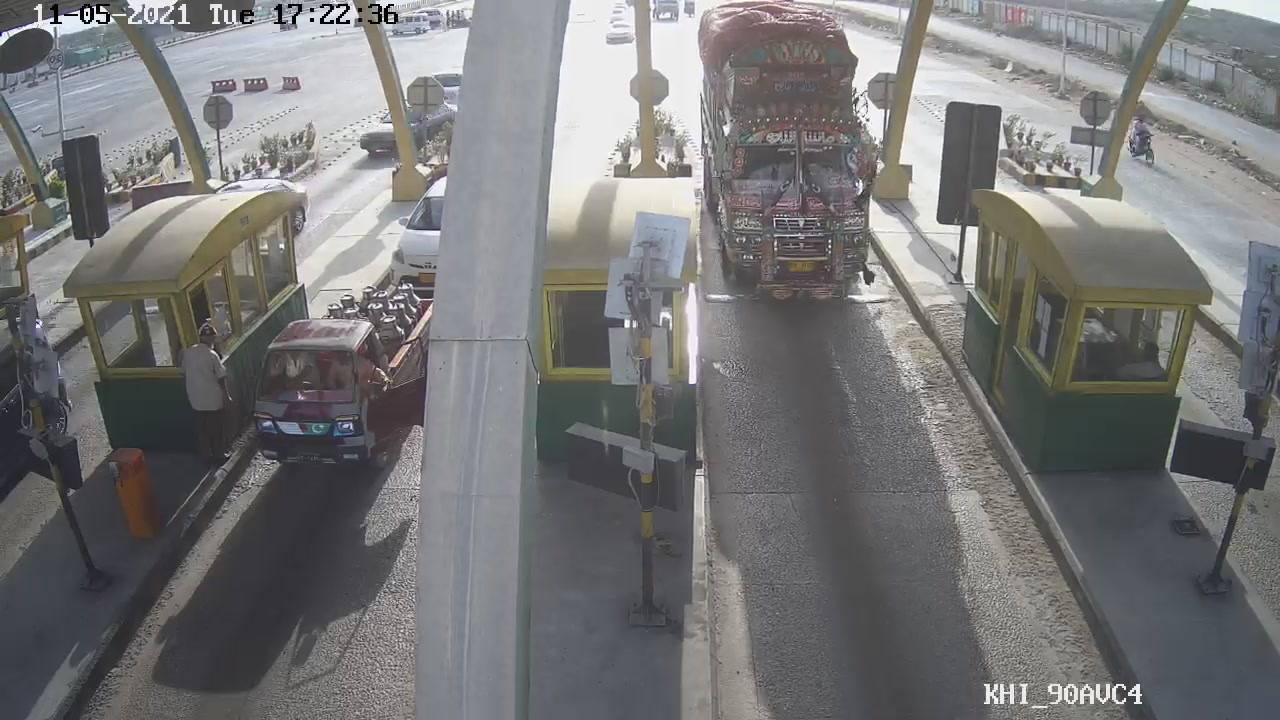F5: (692, 1, 889, 313)
